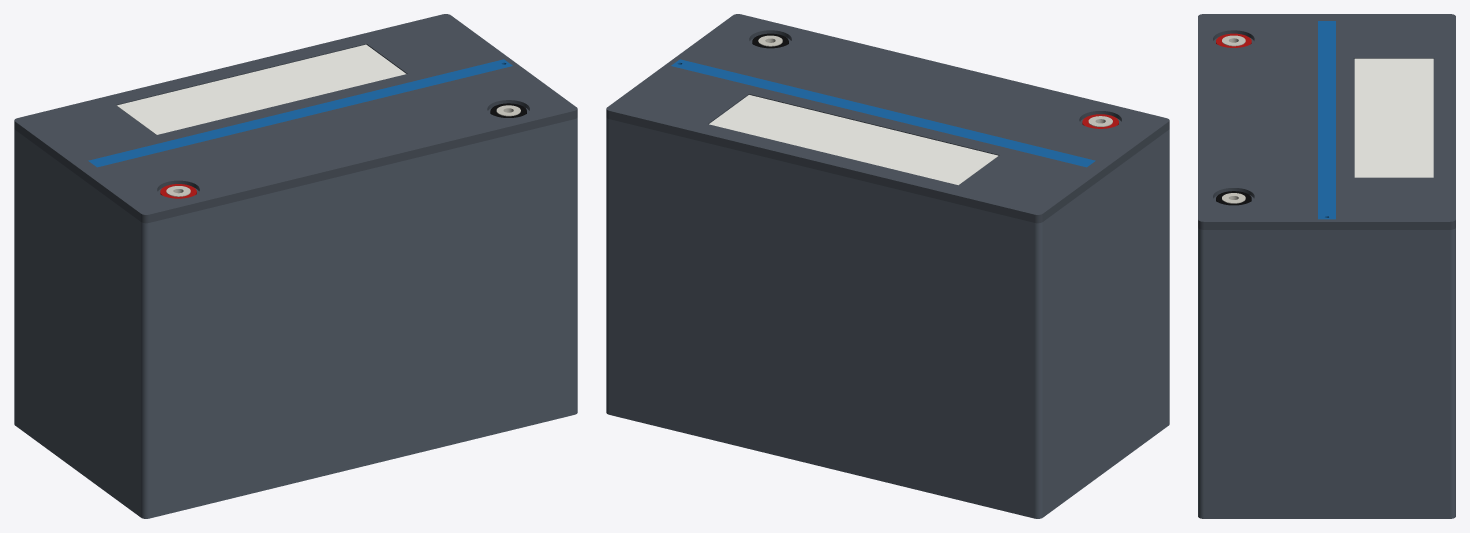
File: r1_monobloc.glb
3 views of the same model, side by side, from view 1: azimuth 30°, elevation 25°; view 2: azimuth 150°, elevation 25°; view 3: azimuth 270°, elevation 25° (orthographic). The views are drawn at different scales.
Visible parts, largest first — view 1: Case container, PP-GF20, 10 compartments + 9 partitions, Lid, PP-GF20, with 10 valve wells, vent manifold groove, ter, Lid label (blank film in recess), Vent manifold cover strip (PP, welded) with outlet hole; view 2: Case container, PP-GF20, 10 compartments + 9 partitions, Lid, PP-GF20, with 10 valve wells, vent manifold groove, ter, Lid label (blank film in recess), Vent manifold cover strip (PP, welded) with outlet hole; view 3: Case container, PP-GF20, 10 compartments + 9 partitions, Lid, PP-GF20, with 10 valve wells, vent manifold groove, ter, Lid label (blank film in recess), Vent manifold cover strip (PP, welded) with outlet hole.
Boxes of the visible parts, <box> form: Case container, PP-GF20, 10 compartments + 9 partitions: <box>14,117,577,518</box>; Lid, PP-GF20, with 10 valve wells, vent manifold groove, ter: <box>14,14,577,223</box>; Lid label (blank film in recess): <box>117,44,405,134</box>; Vent manifold cover strip (PP, welded) with outlet hole: <box>88,59,512,167</box>; Case container, PP-GF20, 10 compartments + 9 partitions: <box>606,117,1169,518</box>; Lid, PP-GF20, with 10 valve wells, vent manifold groove, ter: <box>606,14,1169,223</box>; Lid label (blank film in recess): <box>709,95,998,185</box>; Vent manifold cover strip (PP, welded) with outlet hole: <box>671,59,1095,167</box>; Case container, PP-GF20, 10 compartments + 9 partitions: <box>1198,228,1455,518</box>; Lid, PP-GF20, with 10 valve wells, vent manifold groove, ter: <box>1198,14,1455,229</box>; Lid label (blank film in recess): <box>1354,58,1433,177</box>; Vent manifold cover strip (PP, welded) with outlet hole: <box>1318,21,1335,219</box>.
Bounding box in the file's own units: 0.33 × 0.22 × 0.173.
